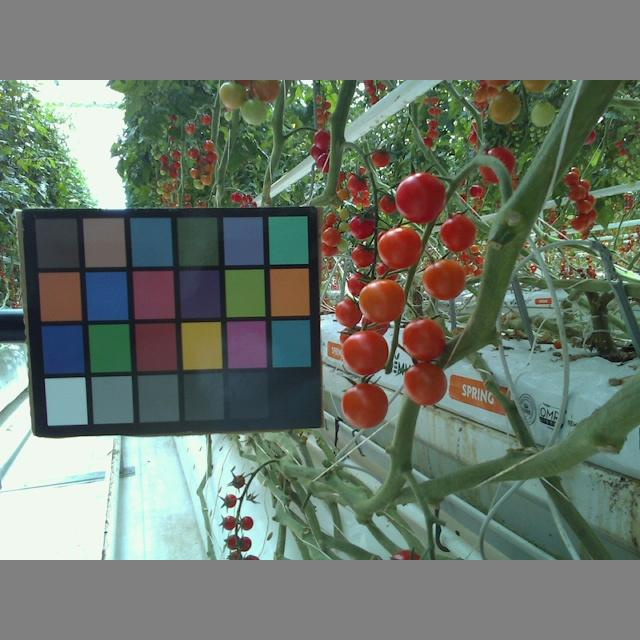green: (216, 81, 250, 109), (238, 98, 266, 126), (531, 100, 555, 127)
pink: (356, 277, 405, 324), (421, 257, 466, 299), (488, 92, 520, 121)
red: (393, 173, 447, 221), (343, 329, 387, 377), (342, 383, 387, 429), (402, 361, 449, 405), (375, 226, 423, 268), (402, 316, 443, 362), (439, 212, 478, 250), (349, 212, 377, 240), (351, 244, 375, 268)
